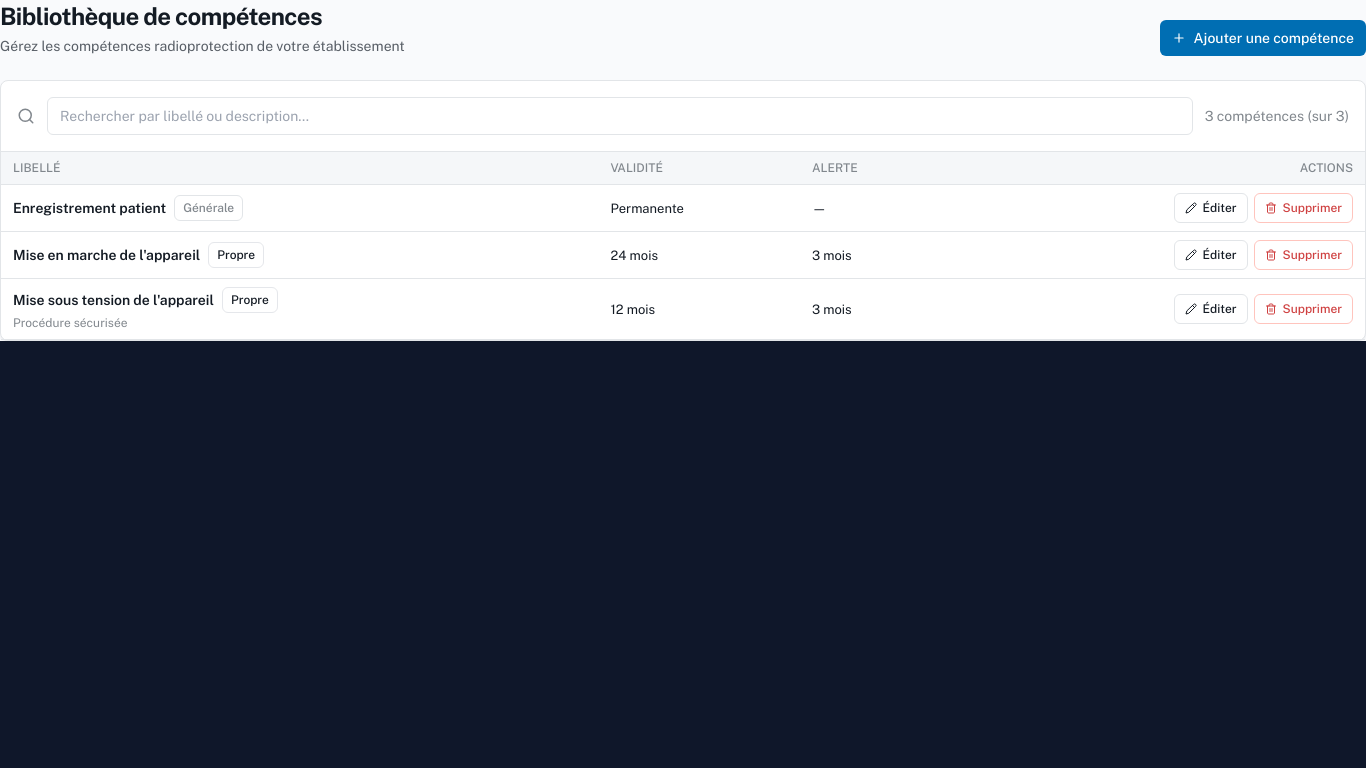
Test: CompetencesList › clic sur Ajouter ouvre la modale avec un champ libellé
Expected: the text "Mise sous tension de l'appareil" is shown, [13,290,214,310]
Click the button "Ajouter une compétence" at (1263, 38), box [1160,20,1365,56]
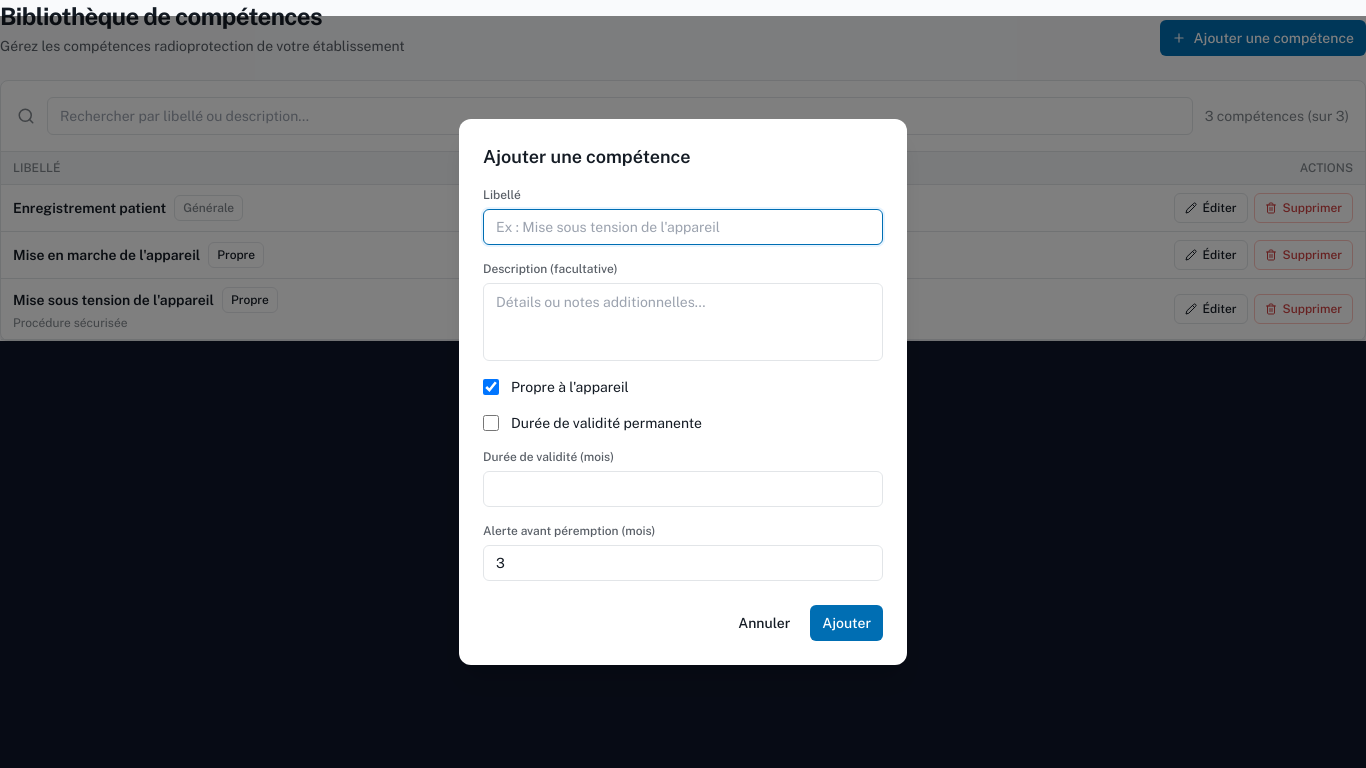
Expected: the field labelled "Libellé" is shown, [483,209,883,245]
